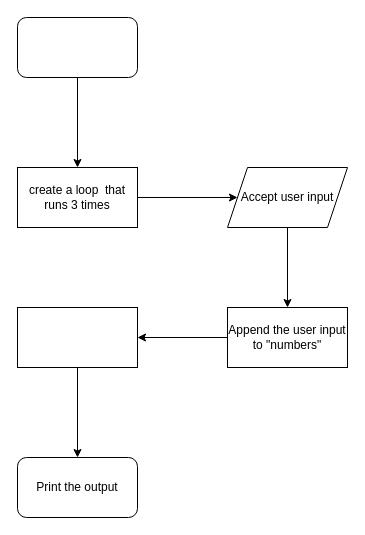
Image size: 365x535. Some labels were removed from this diagram. Here are the shapes that lost their labels. From the top down, the centre of each, then its label:
the point at 77,47: Declear an empty array variable "numbers"
the point at 77,337: sort the numbers array
